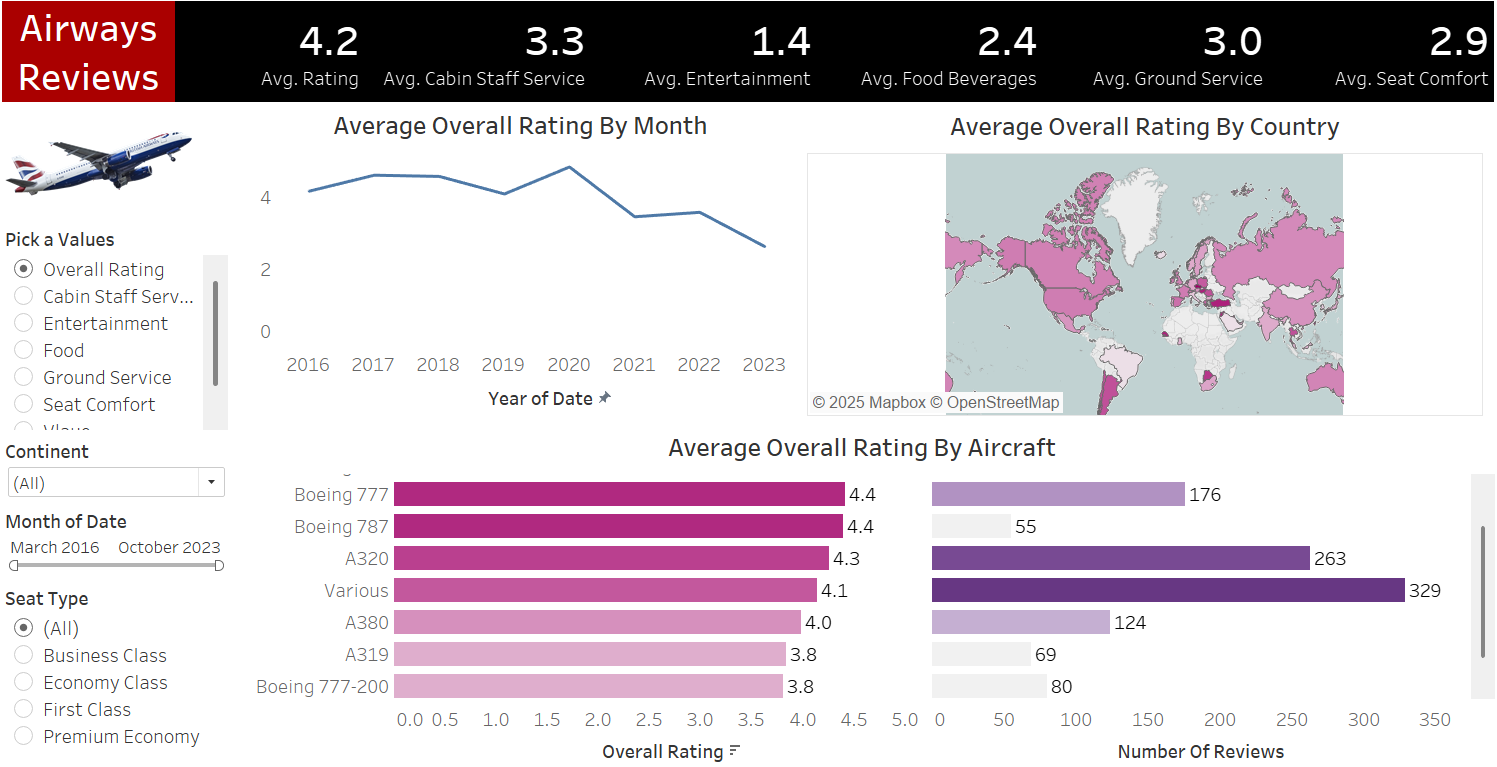

Layout of this report page (visuals, bound fields, positions):
{"tool":"tableau","page":{"name":"Dashboard 1","canvas":[1600,800],"ordinal":0},"visuals":[{"type":"worksheet","title":"Summary","mark":"Automatic","box":[144,1,1368,117]},{"type":"text","box":[9,16,173,101]},{"type":"image","param":"Image/British Airways flying airplane png Image - 2750x1614.png","box":[4,118,245,120]},{"type":"worksheet","title":"Month","mark":"Automatic","rows":["Calculation_968836930513301504"],"cols":["date"],"box":[245,119,565,313]},{"type":"worksheet","title":"Map","mark":"Automatic","box":[814,120,676,311]},{"type":"parameter","param":"[Parameters].[Parameter 1]","box":[8,237,231,212]},{"type":"worksheet","title":"Aircraft","mark":"Automatic","cols":["Calculation_968836930513301504","ba_reviews.csv_6E4D7E5D63A049529C26BA9BB5240EAC"],"box":[261,441,1241,344]},{"type":"filter","title":"Map","param":"[federated.182oa5p0l8p09k1cmumd90xi2q73].[none:Continent:nk]","box":[8,449,231,70]},{"type":"filter","title":"Map","param":"[federated.182oa5p0l8p09k1cmumd90xi2q73].[tmn:date:qk]","box":[8,519,231,77]},{"type":"filter","title":"Map","param":"[federated.182oa5p0l8p09k1cmumd90xi2q73].[none:seat_type:nk]","box":[8,596,231,175]}]}

Visuals, with their boxes in screenshot pixels (x1, y1, x2, y2), scaled from the page's 1600x800 canvas onto the 1497x767 screenshot:
"Summary" worksheet: (left=135, top=1, right=1415, bottom=113)
text: (left=8, top=15, right=170, bottom=112)
image: (left=4, top=113, right=233, bottom=228)
"Month" worksheet: (left=229, top=114, right=758, bottom=414)
"Map" worksheet: (left=762, top=115, right=1394, bottom=413)
parameter: (left=7, top=227, right=224, bottom=430)
"Aircraft" worksheet: (left=244, top=423, right=1405, bottom=753)
"Map" filter: (left=7, top=430, right=224, bottom=498)
"Map" filter: (left=7, top=498, right=224, bottom=571)
"Map" filter: (left=7, top=571, right=224, bottom=739)
